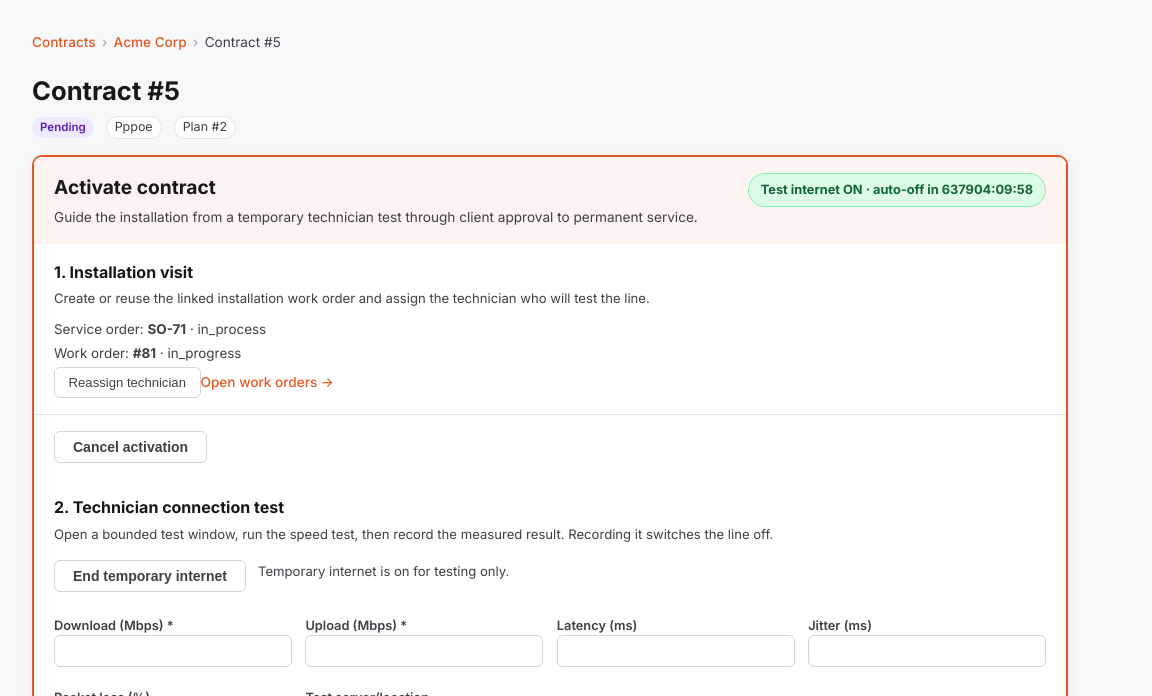
it: ContractDetail — guided activation › records a PPPoE technician speed test through test-window/complete, which closes temporary access
This screenshot has width=1152, height=696.
In the number field labelled "Download (Mbps)": (173, 651) x1=54 y1=635 x2=292 y2=667, type "98.5"
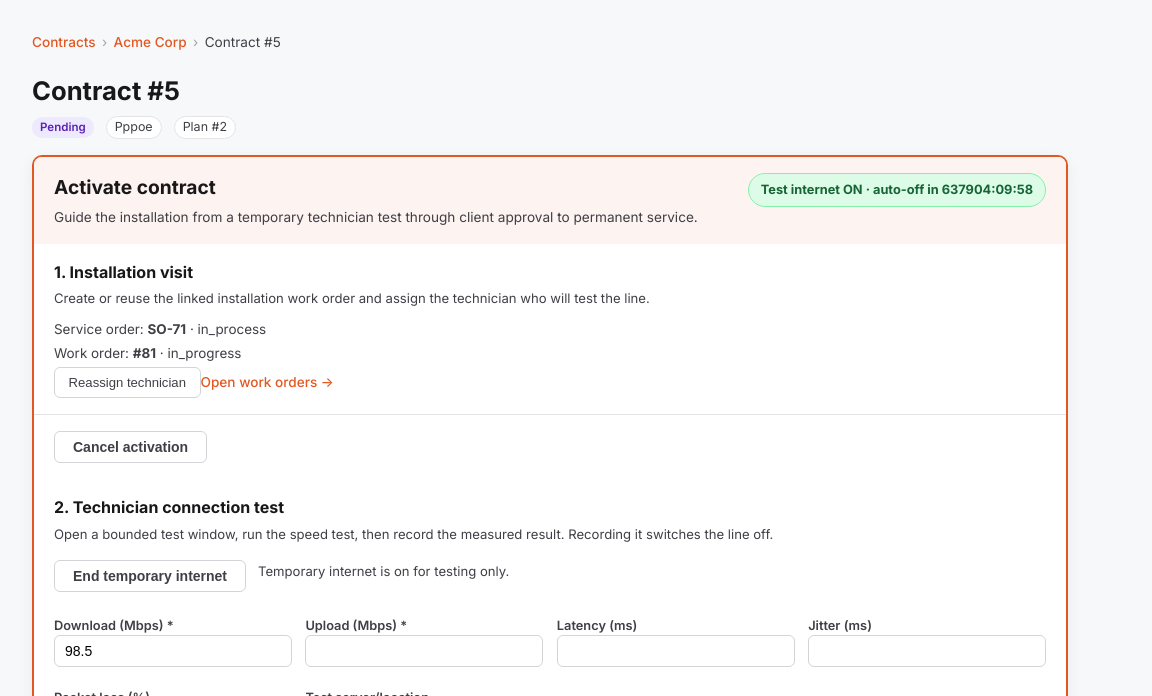
In the number field labelled "Upload (Mbps)": (424, 651) x1=305 y1=635 x2=543 y2=667, type "47.2"
(page scrolled)
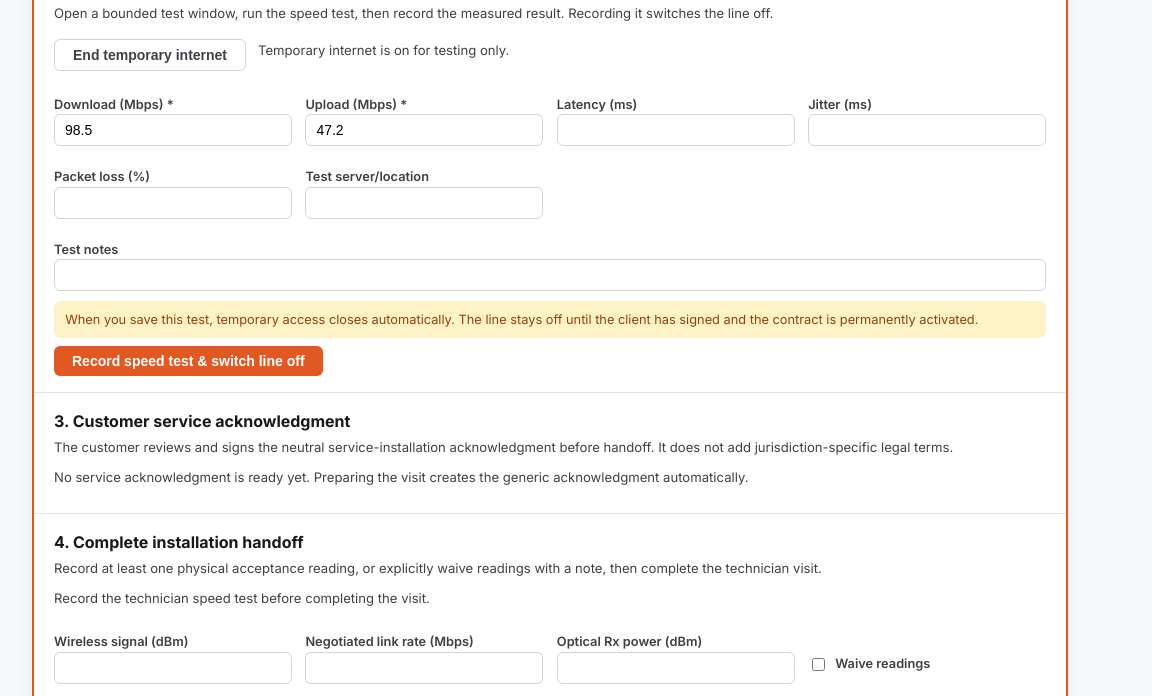
Click the button "Record speed test & switch line off": (188, 361) x1=54 y1=346 x2=323 y2=376
(page scrolled)
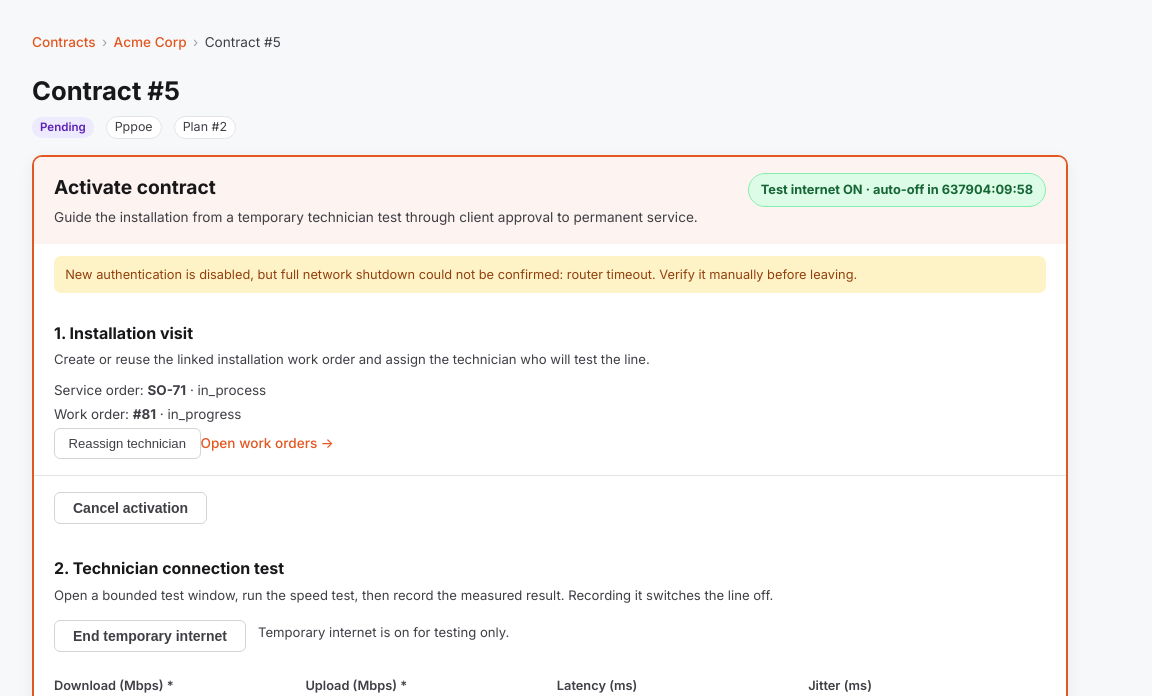
Expected: the text "router timeout" is shown, x1=65 y1=267 x2=857 y2=282
